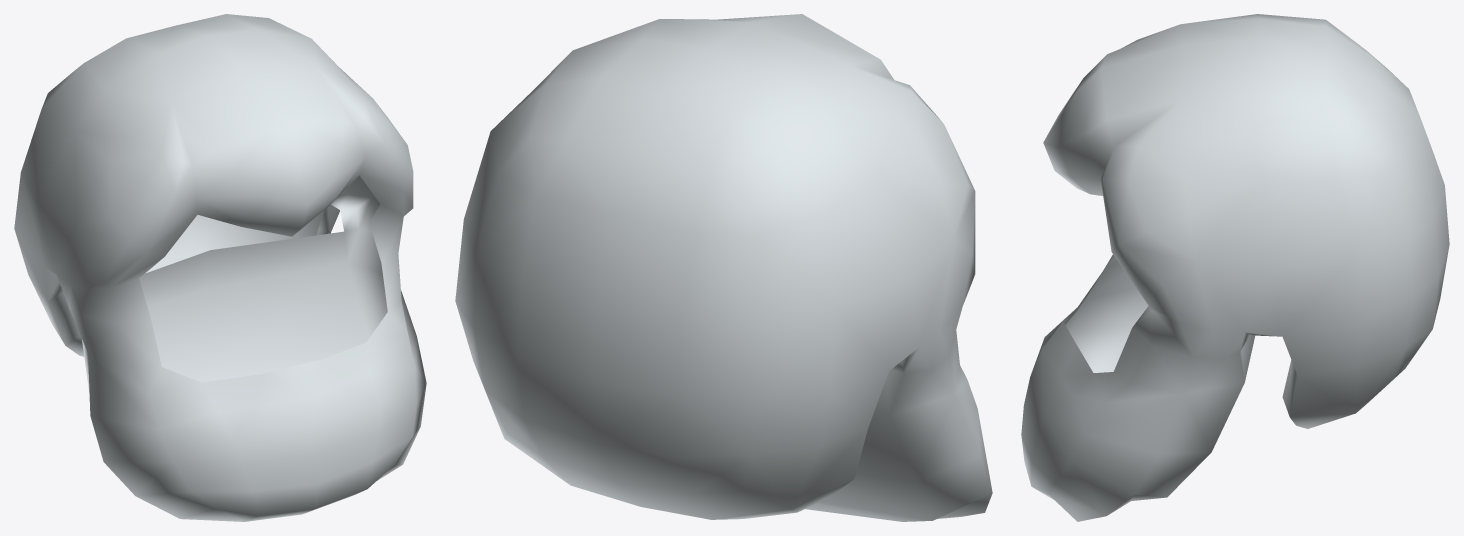
Rendered from Hair_7.fbx.
The picture shows the model from 3 angles, left to right: view 1: azimuth 30°, elevation 25°; view 2: azimuth 150°, elevation 25°; view 3: azimuth 270°, elevation 25°; orthographic projection. The views are drawn at different scales.
Parts seen in each view (by area): view 1: Hair_7; view 2: Hair_7; view 3: Hair_7.
Boxes of the visible parts, <box> form: Hair_7: <box>14,14,426,521</box>; Hair_7: <box>455,14,992,521</box>; Hair_7: <box>1021,14,1449,521</box>.
Size of the model in its own units: 69.32 by 82.96 by 73.11.
